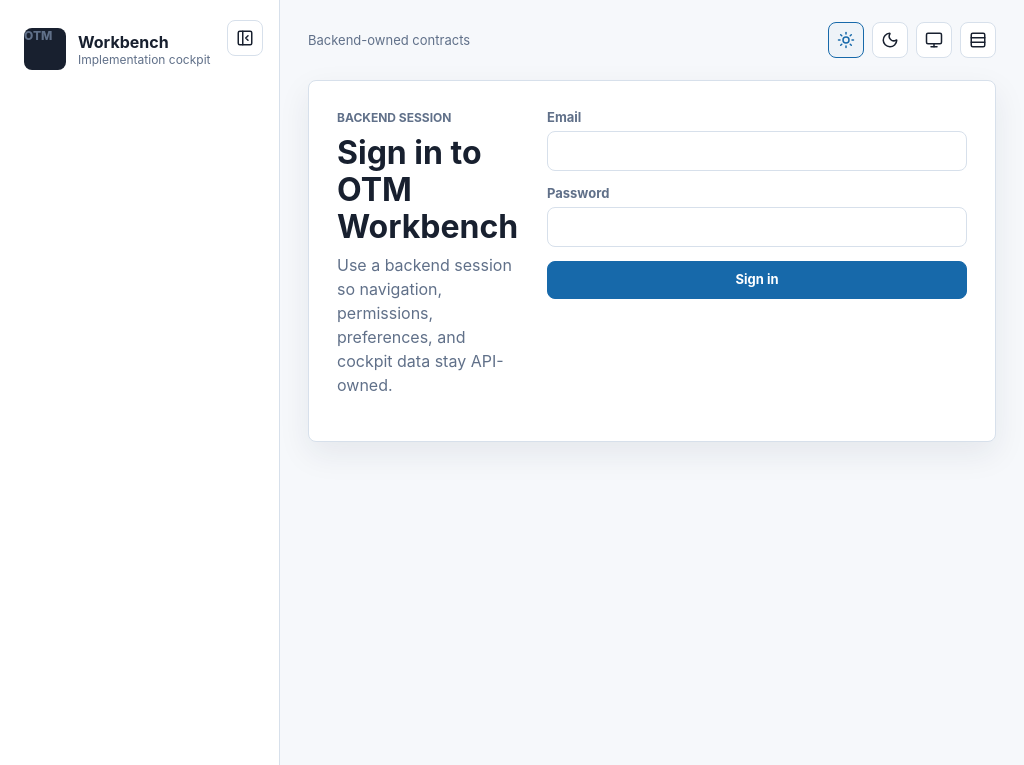
Functional Assets Library journey › creates an asset link on a direct route without showing the legacy workflow
In the field labelled "Email": [757, 151] box [547,131,967,171], type "admin@example.test"
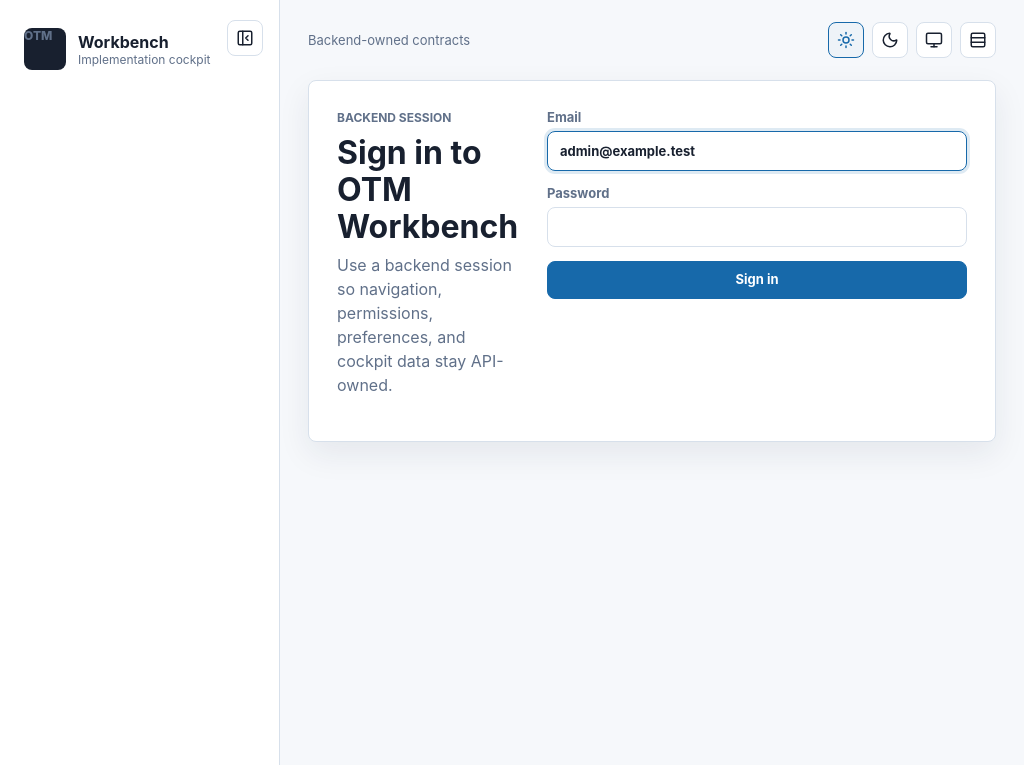
In the password field labelled "Password": [757, 227] box [547,207,967,247], type "SyntheticPass123!"
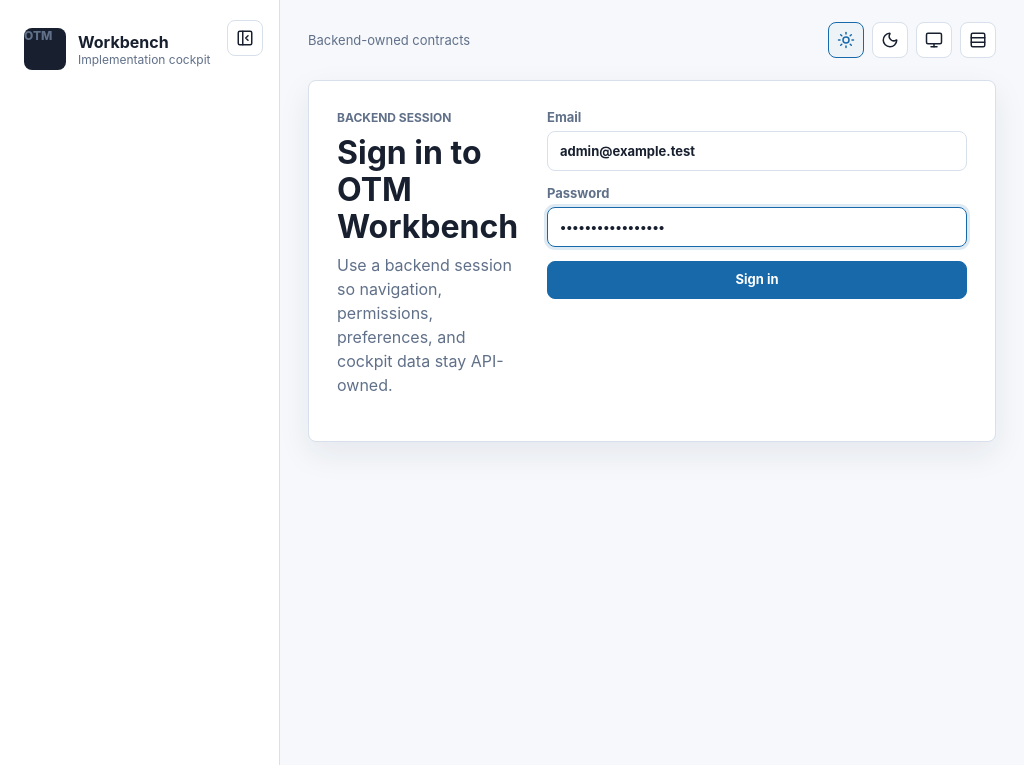
Click the button "Sign in": [757, 280] box [547,261,967,299]
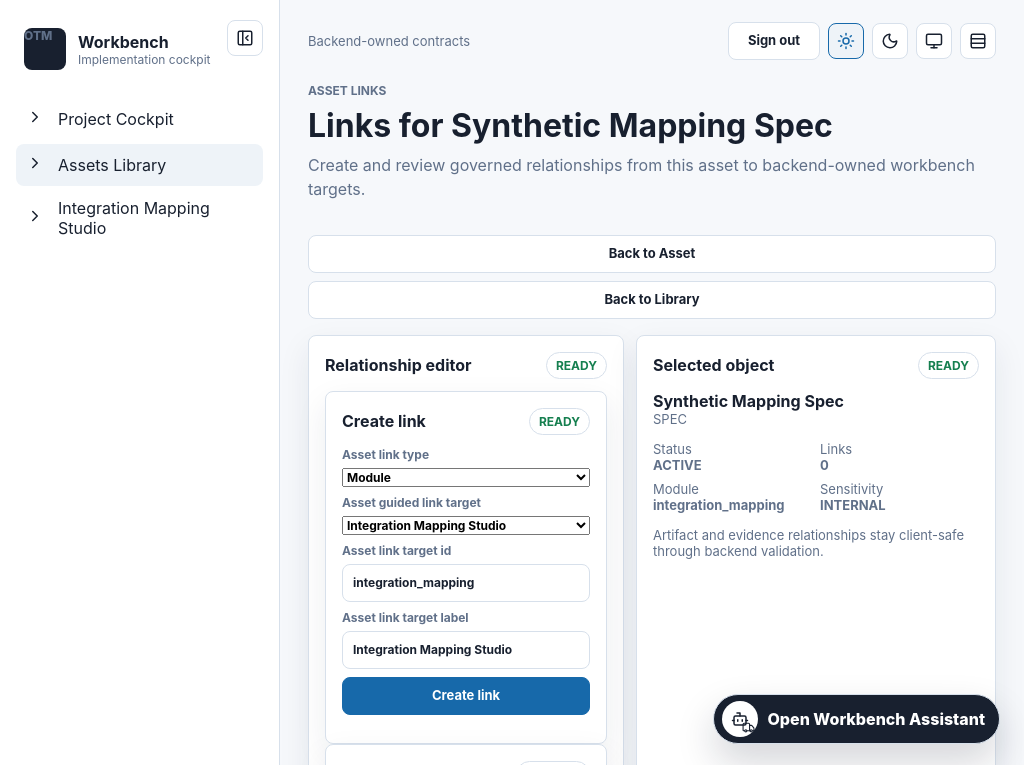
Check: the heading "Links for Synthetic Mapping Spec" is shown, box [308,106,833,145]
Select "Module" in the dropdown labelled "Asset link type": [466, 477] box [342,468,590,487]
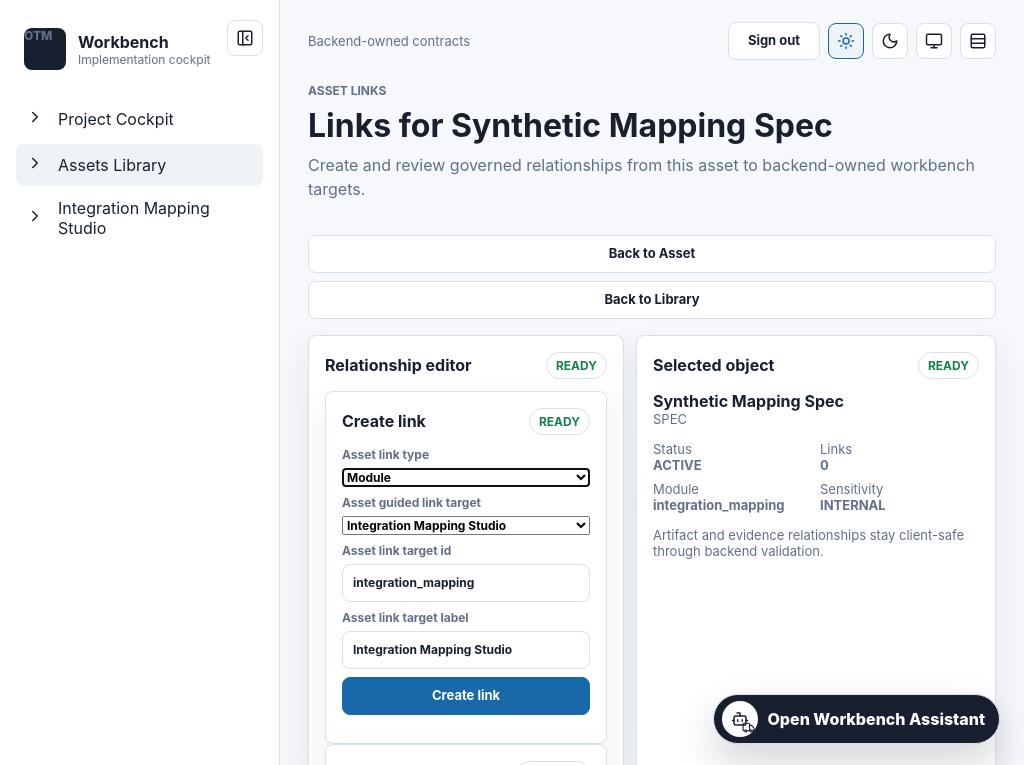
Select "Integration Mapping Studio" in the dropdown labelled "Asset guided link target": [466, 525] box [342,516,590,535]
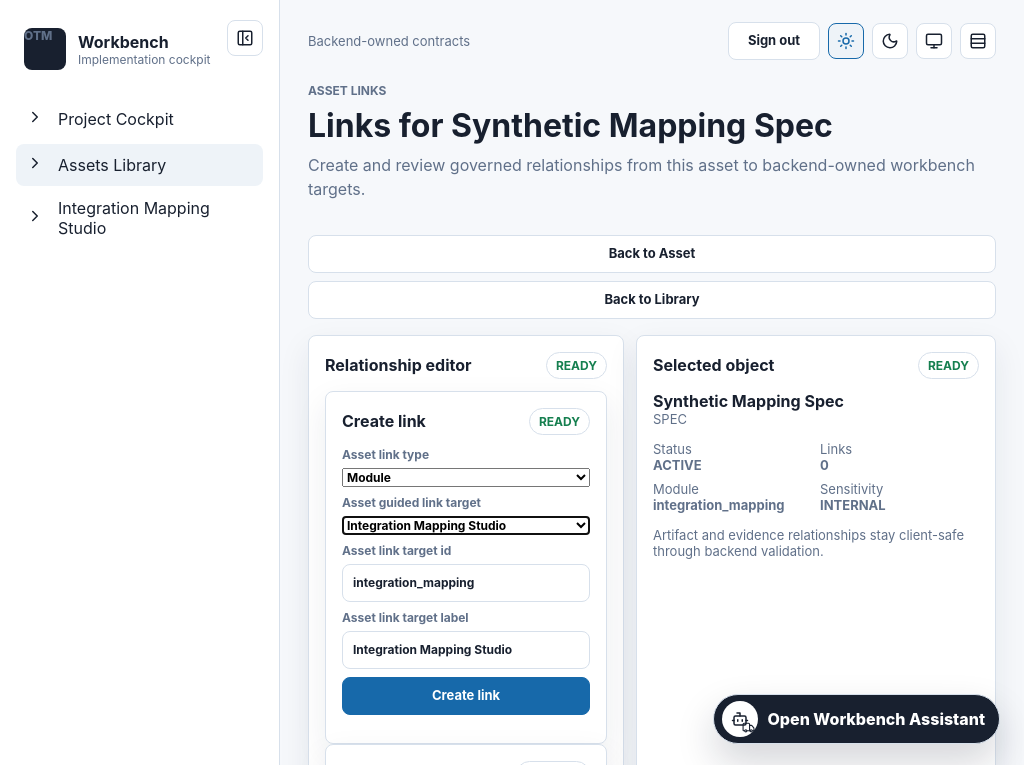
Click the button "Create link": [466, 696] box [342,677,590,715]
(page scrolled)
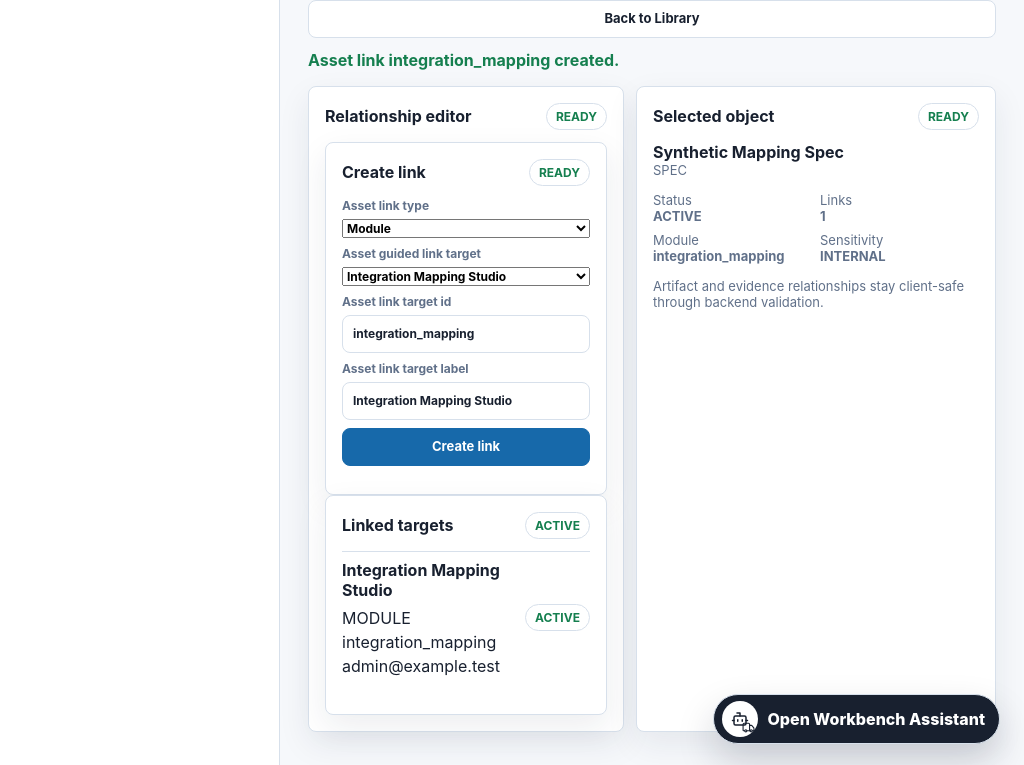
Check: the text "Asset link integration_mapping created." is shown, box [308,50,619,70]
Check: the element named "Asset links rows" shows "Integration Mapping Studio", box [342,560,500,600]
